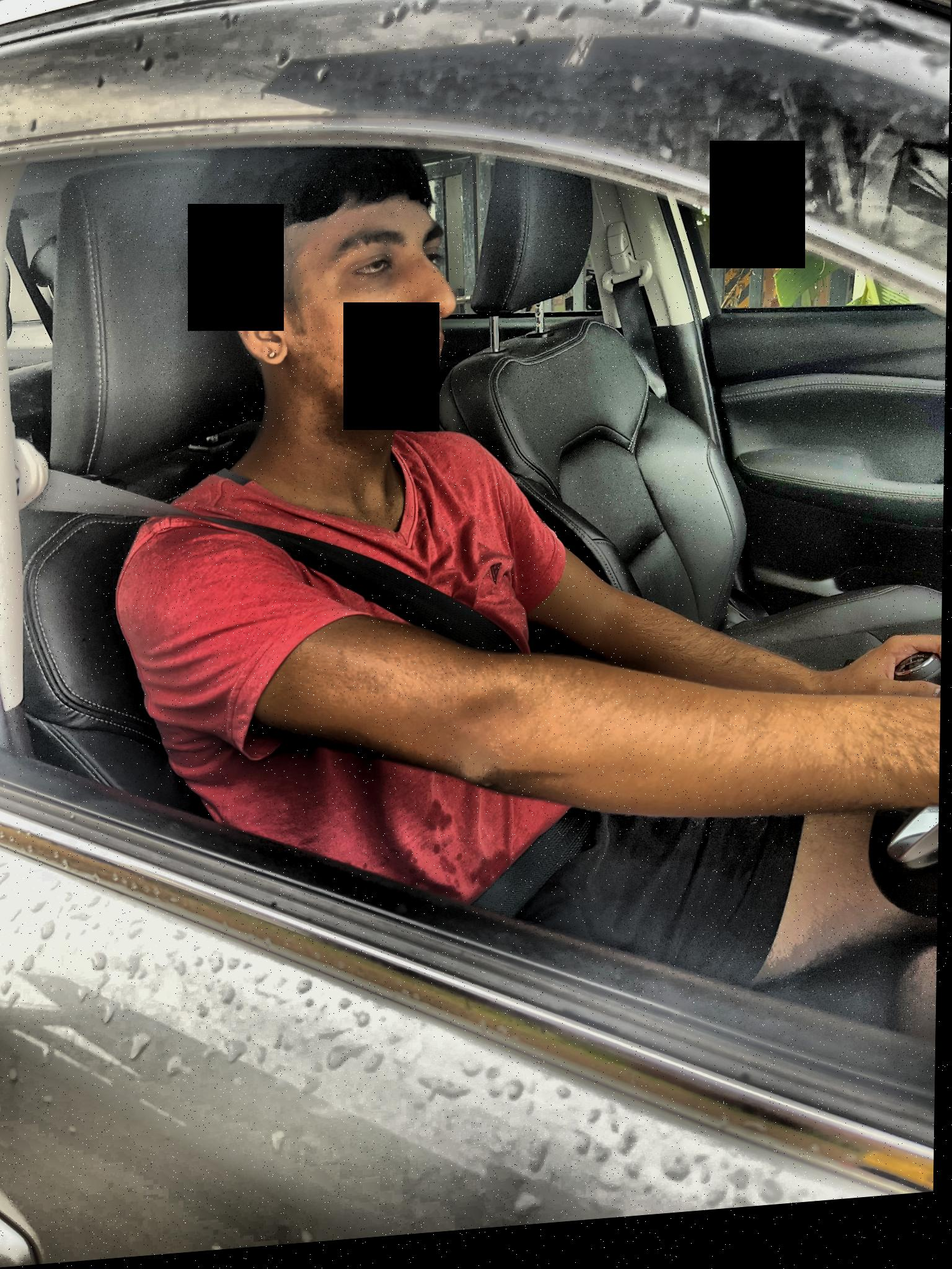seatbelt: (3, 392, 568, 791)
